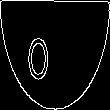O_N: (44, 28, 66, 82)
